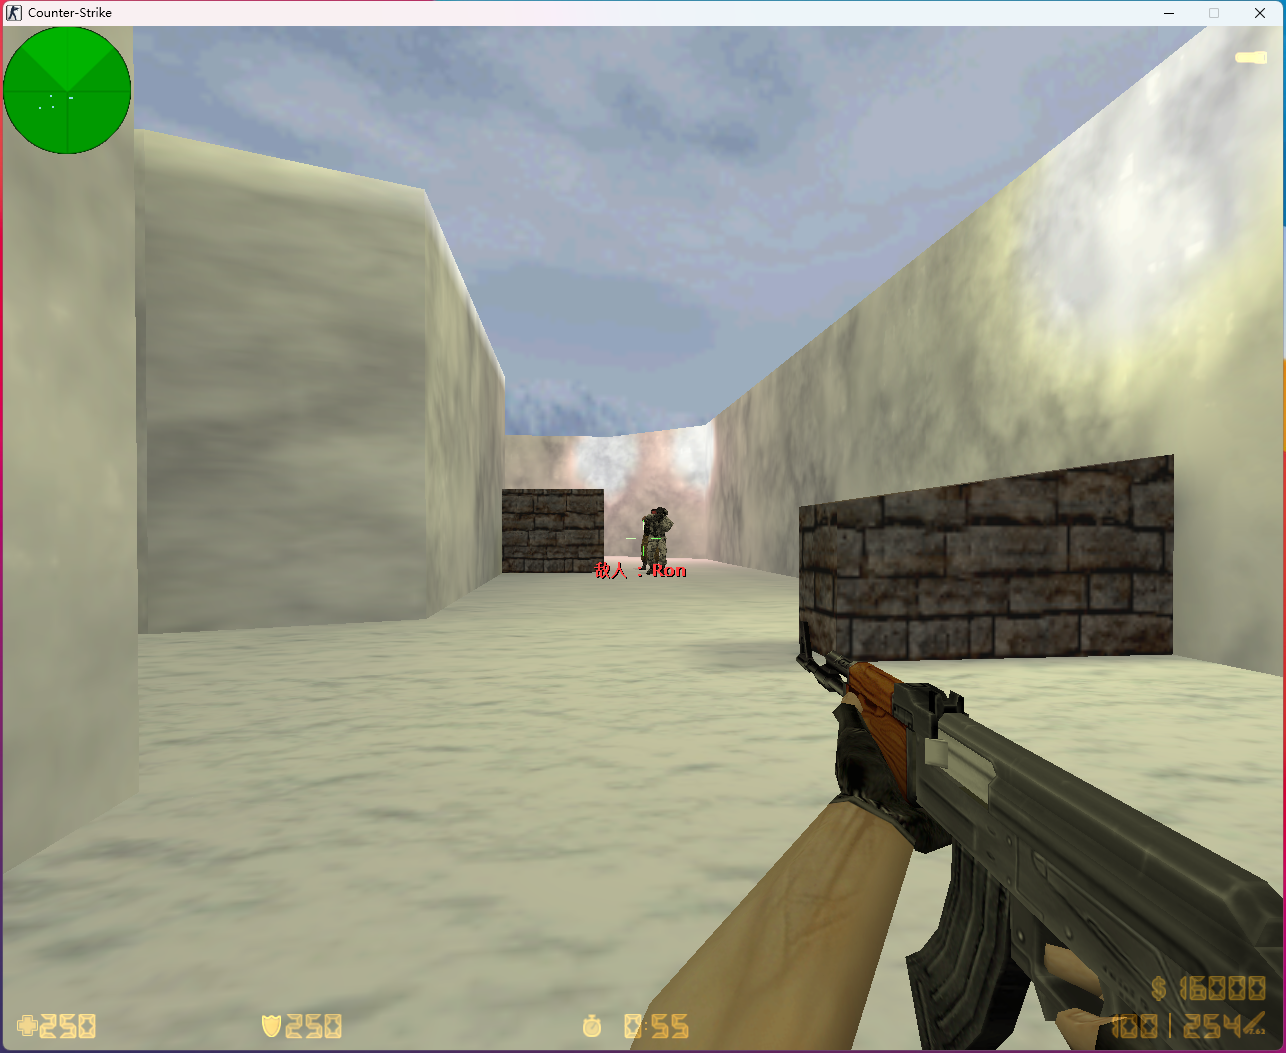T: (647, 509, 670, 578), (641, 509, 659, 569)
